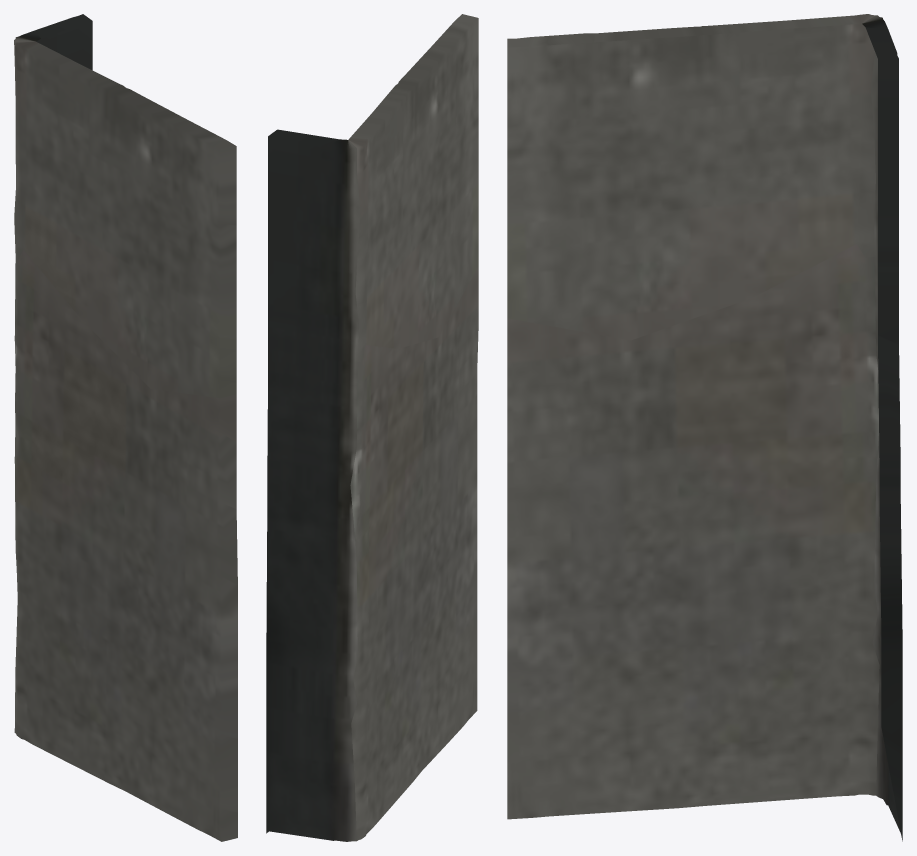
Rendered from z20-167771-405238-h1-yup-uvflip-v3-world.glb.
The picture shows the model from 3 angles, left to right: view 1: azimuth 30°, elevation 25°; view 2: azimuth 150°, elevation 25°; view 3: azimuth 270°, elevation 25°; orthographic projection. The views are drawn at different scales.
Bounding box in the file's own units: 2.4 × 19.6 × 8.96.
1 material, 1 textured.
